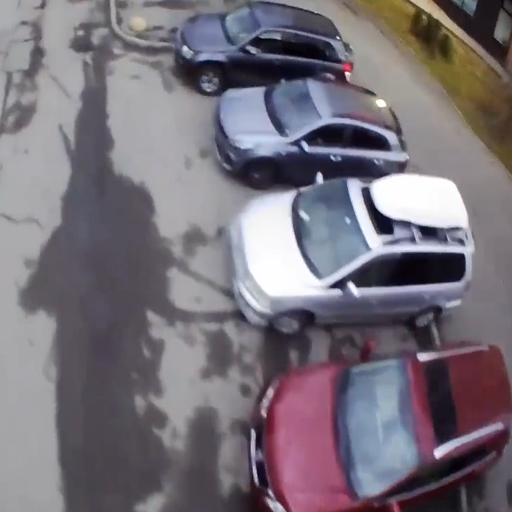Car: (251, 349, 509, 505), (222, 172, 468, 328), (213, 78, 416, 187), (176, 2, 346, 93)
